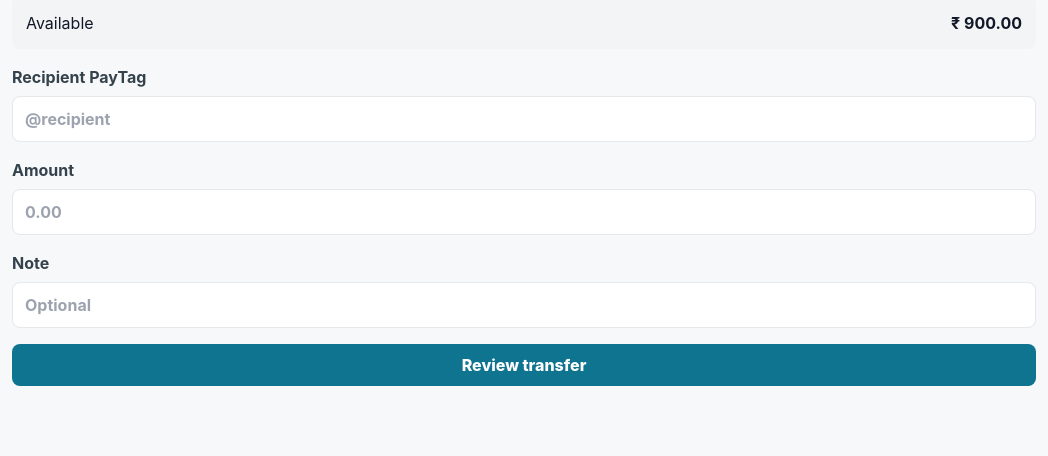
Test case: SendMoneyForm › shows an error when the recipient cannot be resolved
In the field labelled "Recipient PayTag": (524, 119) [12,96,1036,142], type "@missing"
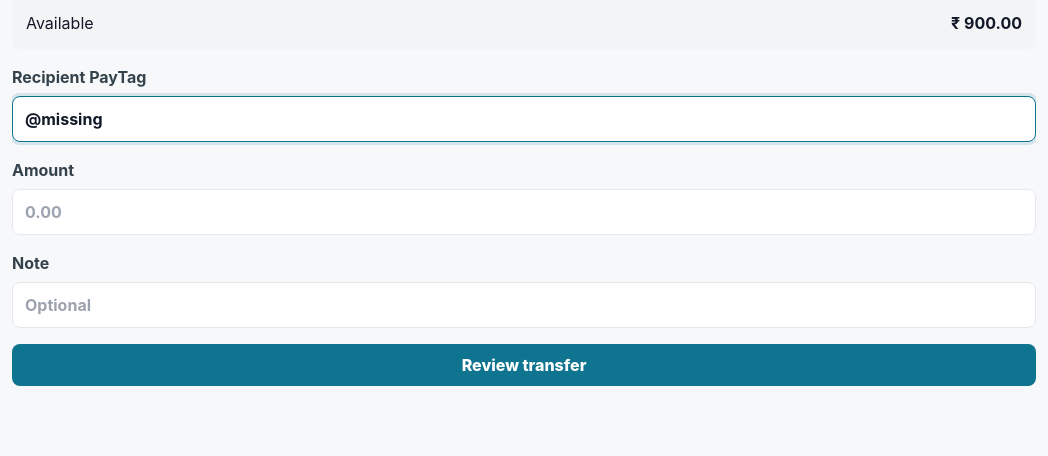
In the field labelled "Amount": (524, 212) [12,189,1036,235], type "10.00"
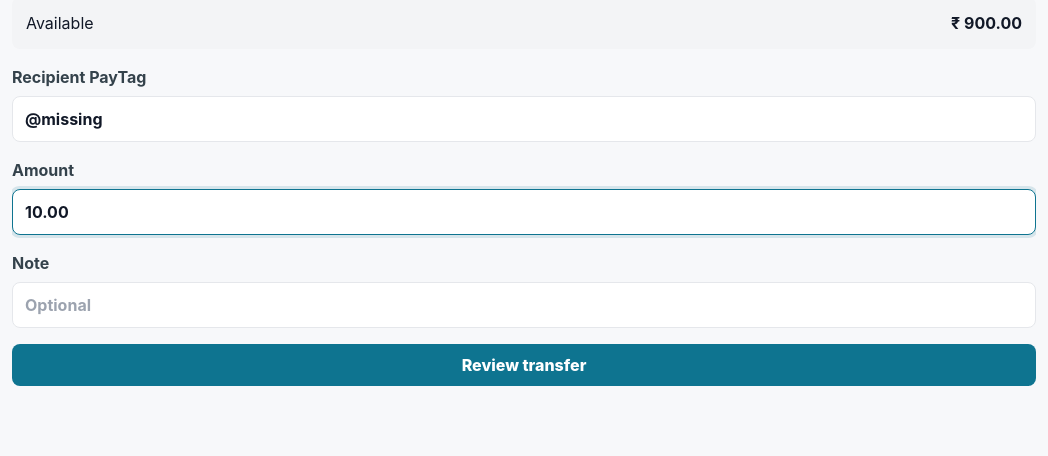
Click the button "Review transfer": (524, 365) [12,344,1036,386]
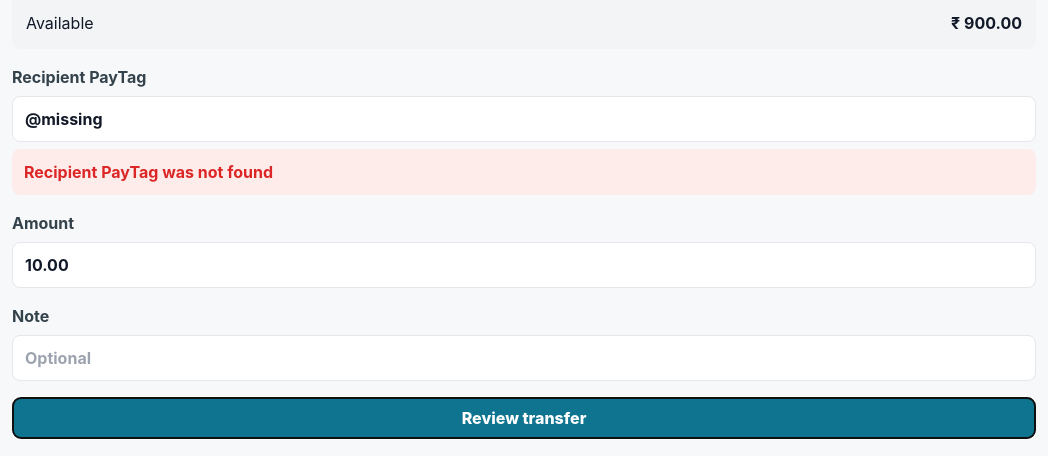
Result: the text "Recipient PayTag was not found" is shown at [12,149,1036,195]
